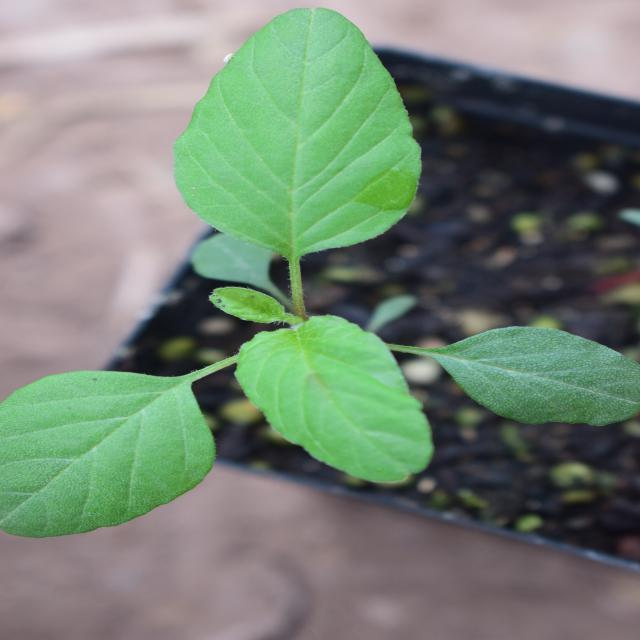pigweed: (68, 7, 634, 504)
